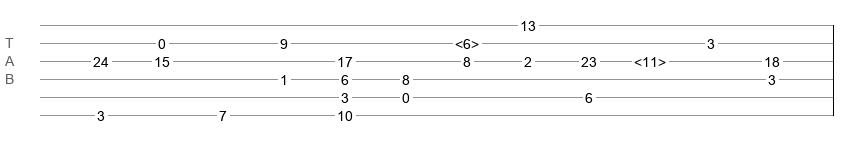0: (158, 36, 166, 46), (402, 90, 410, 100)
1: (280, 72, 288, 82)
10: (337, 108, 353, 118)
13: (520, 18, 536, 28)
15: (154, 54, 170, 64)
17: (337, 54, 353, 64)
18: (764, 54, 780, 64)
2: (524, 54, 532, 64)
23: (581, 54, 597, 64)
24: (93, 54, 109, 64)
3: (97, 108, 105, 118), (341, 90, 349, 100), (707, 36, 715, 46), (768, 72, 776, 82)
6: (341, 72, 349, 82), (585, 90, 593, 100)
7: (219, 108, 227, 118)
8: (402, 72, 410, 82), (463, 54, 471, 64)
9: (280, 36, 288, 46)
harmonic: (634, 54, 666, 64), (455, 36, 479, 46)
